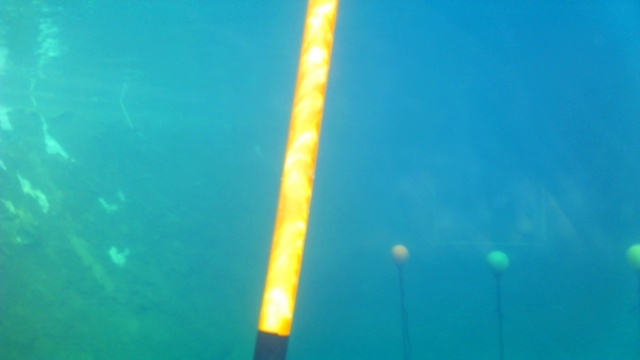buoy_green: (484, 249, 511, 285)
buoy_red: (389, 243, 410, 273)
